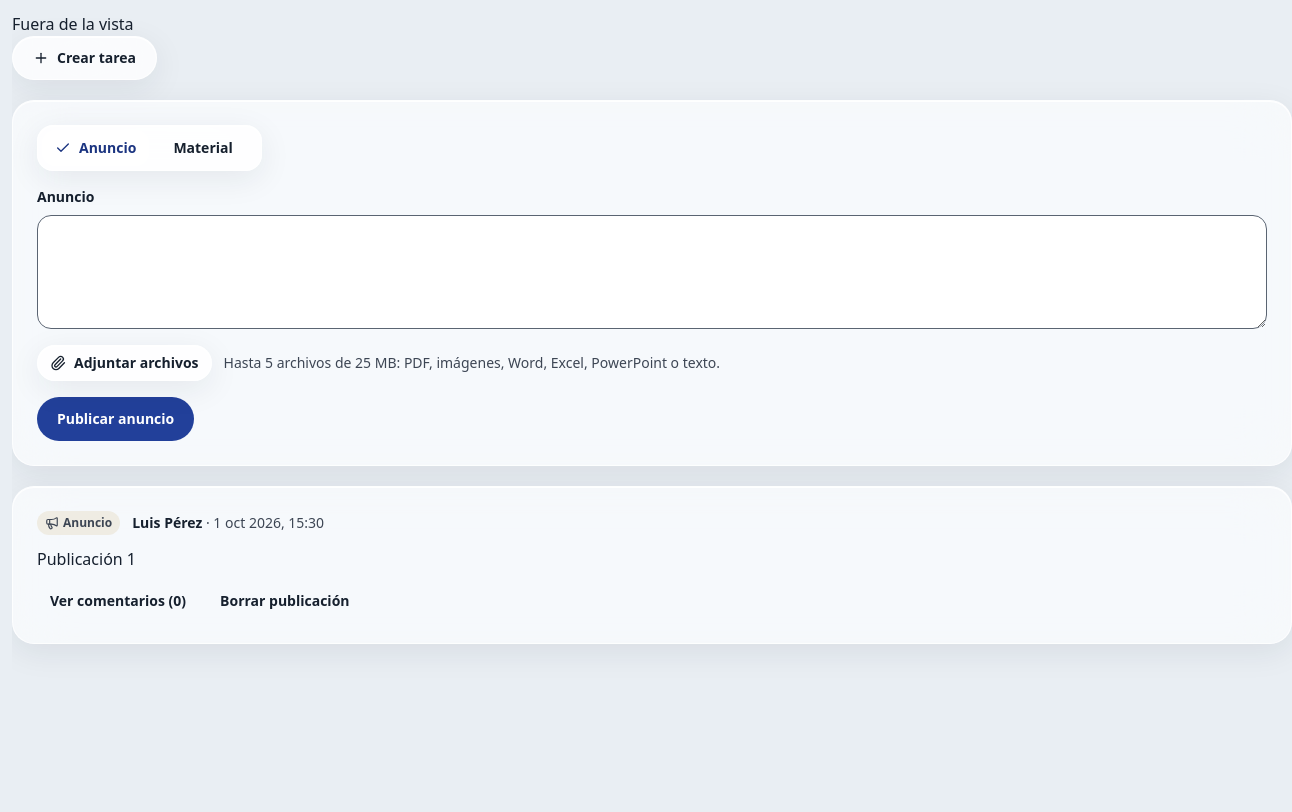
Test: ataque CLASES-02c r3: la lista del muro cuando la recarga o «Ver más publicaciones» fallan › tras borrar, con la recarga en 500 y el foco perdido, el foco va al encabezado «Publicaciones», fuera del orden de Tab, y el alerta conserva su texto
Click the button "Borrar publicación" at x=285, y=602, box [207,584,362,620]
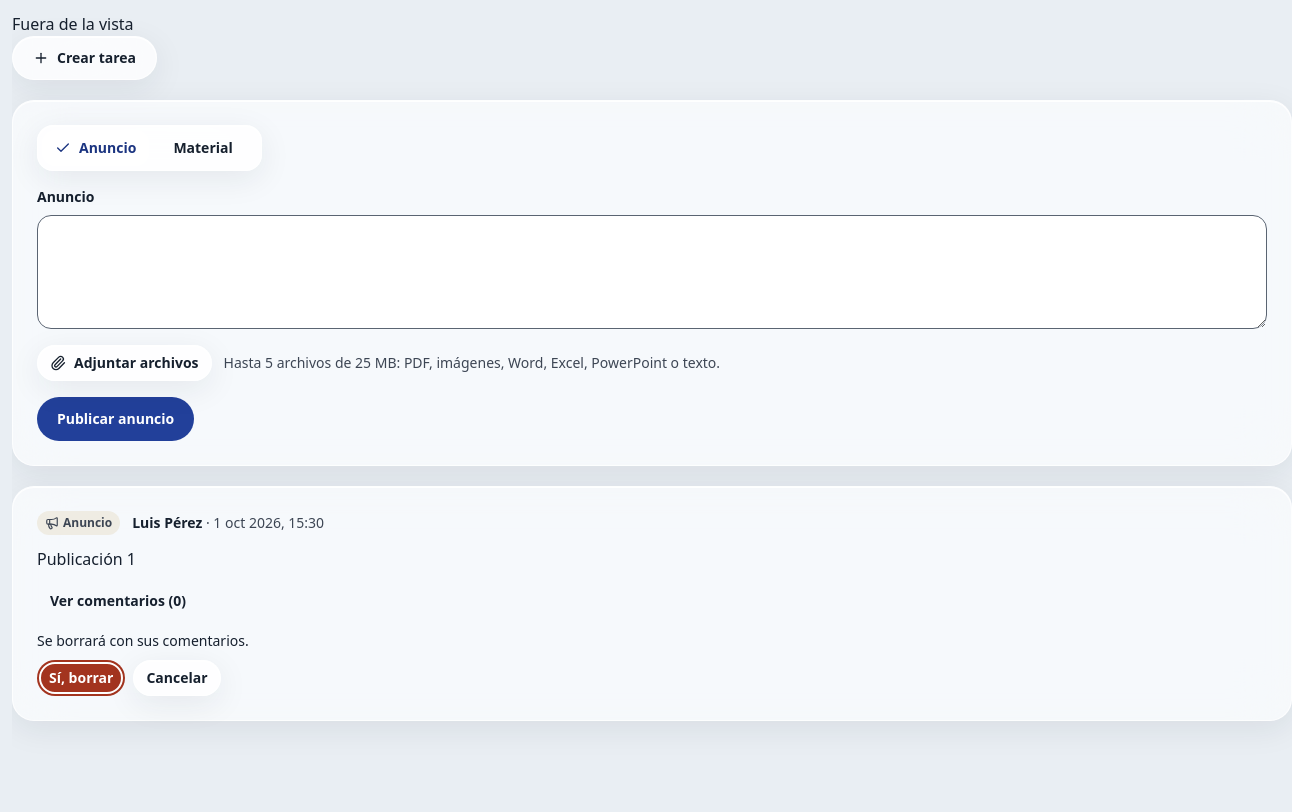
Click the button "Sí, borrar" at x=81, y=678, box [37,660,125,696]
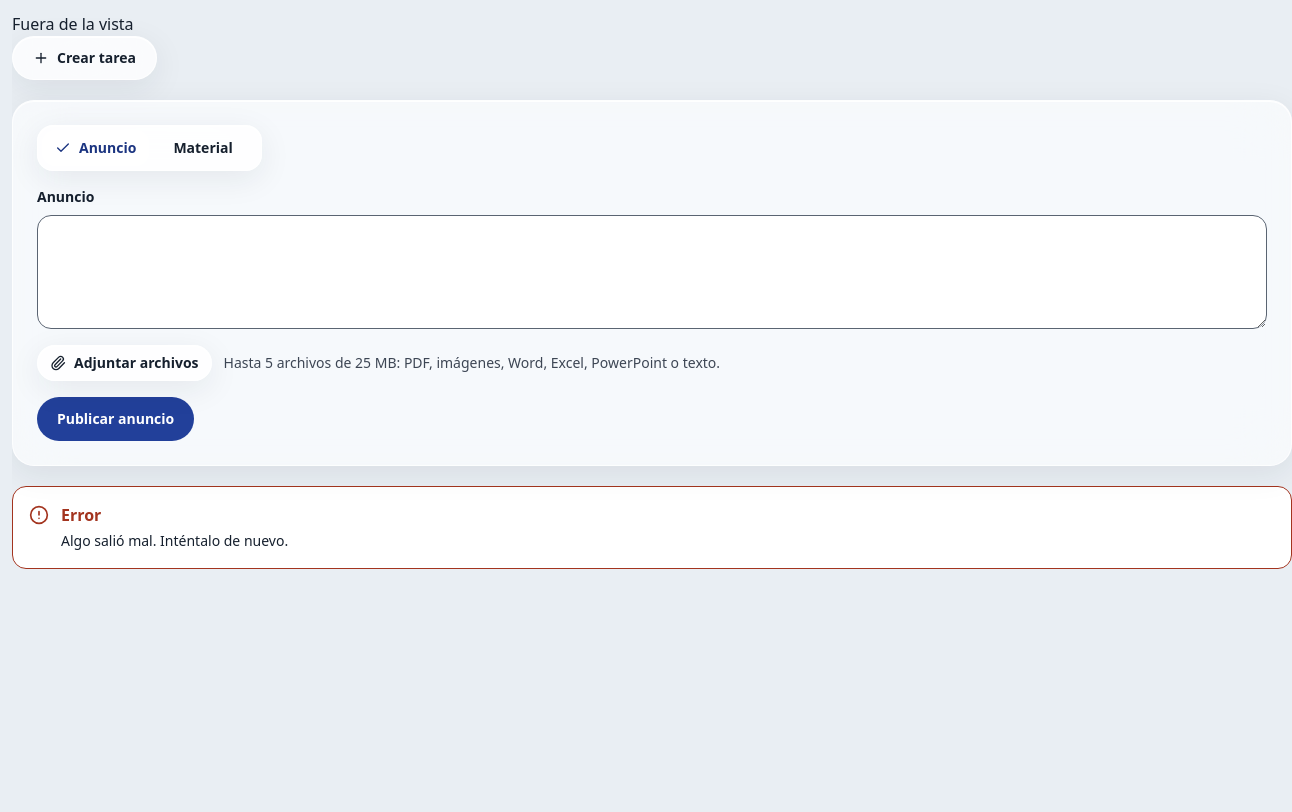
Expected: the text "Algo salió mal. Inténtalo de nuevo." is shown, [61,531,288,552]
Expected: the message shows "Algo salió mal. Inténtalo de nuevo.", [61,531,288,550]
